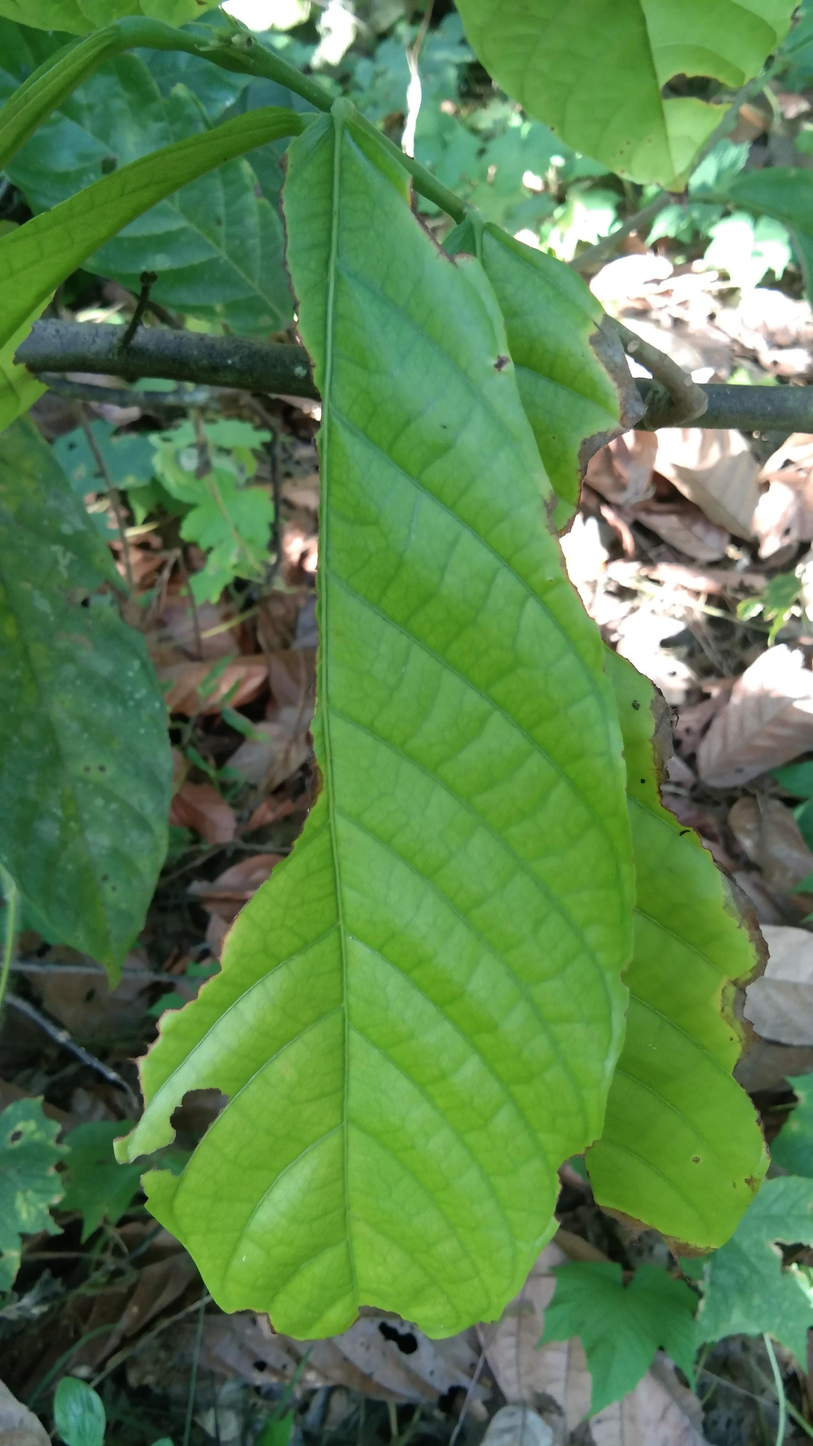deficiencia_potasio: (103, 99, 673, 1346)
